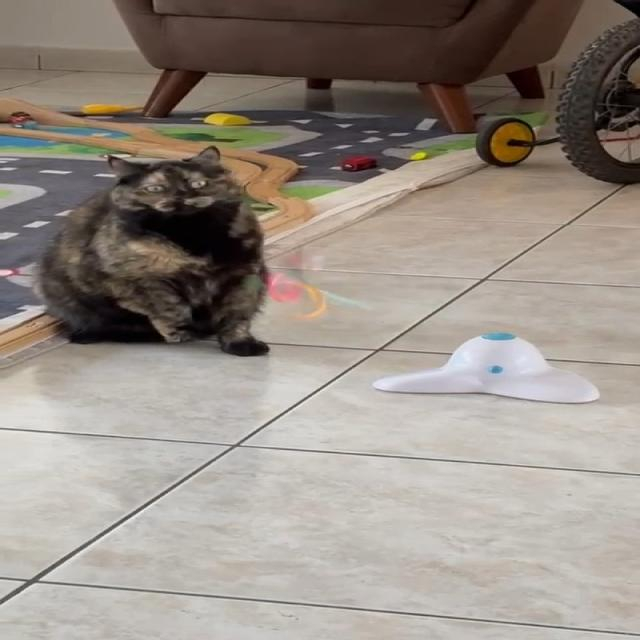authorized: (32, 144, 271, 356)
